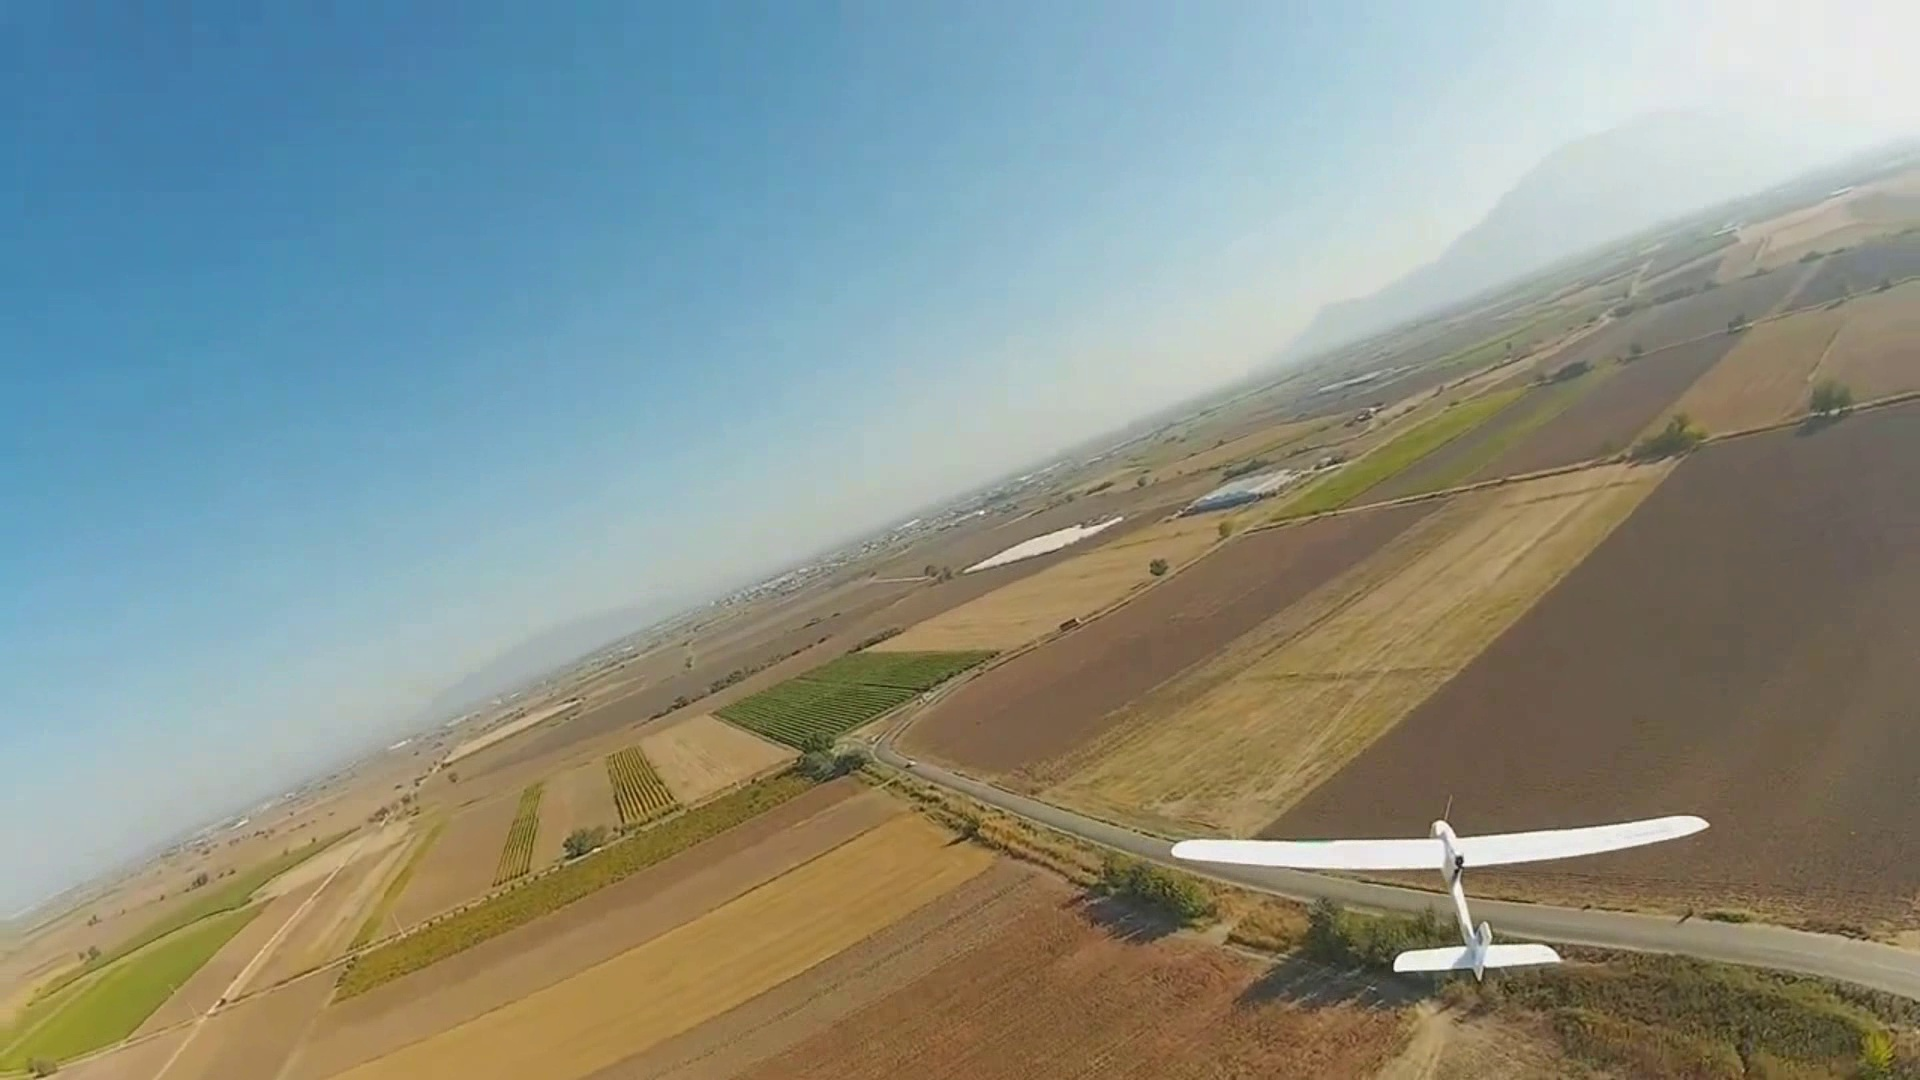airplane: (75, 87, 1914, 978)
